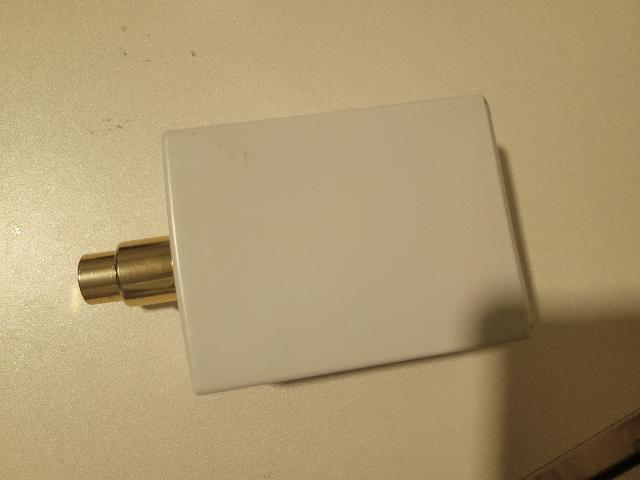Metal: (65, 229, 181, 327)
Plastik: (163, 86, 538, 392)
